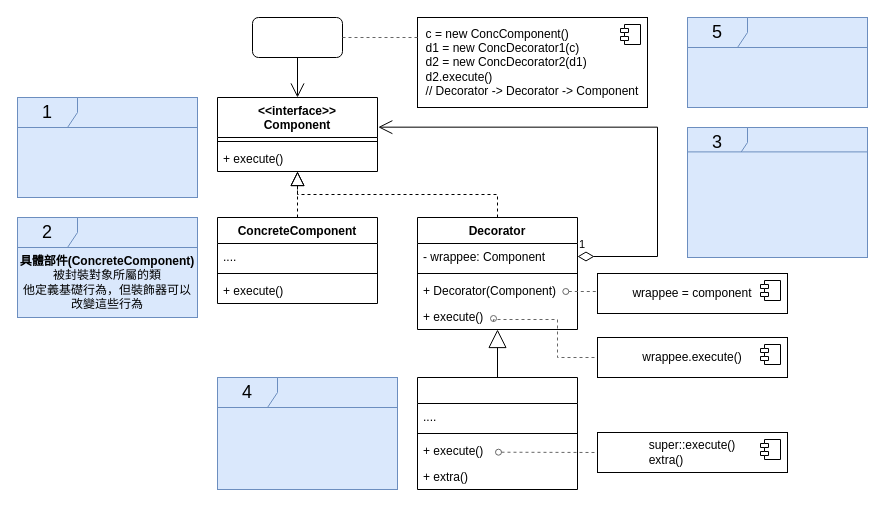
The diagram is 885 pixels wide and 510 high, and some of its shapes have lost their labels. The box of each missing label's shape, as (x1, y1, x2, y2) in pixels:
Client: (252, 16, 342, 58)
Concrete Decorators: (416, 376, 578, 490)
具體裝飾(ConcreteDecorator) 可以加入新的方法，擴展組件 通常是藉著在組件(Component) 的既有方法的前面或後面做一些計算來加入: (216, 406, 398, 490)
客戶端(Client) 可以使用多層裝飾來封裝部件， 只要他能夠使用通用介面 與所有對象互動即可: (686, 46, 868, 108)
裝飾(Decorator) 每一個裝飾器都HAS-A(包裝) 一個組件(Component) 實作了與他們要裝飾的組件 一樣的介面或抽象類別: (686, 151, 868, 258)
部件(Component) 裝飾器與被封裝對象的公用介面 每一個組件都可以單獨使用， 或用裝飾器包裝起來: (16, 126, 198, 198)
